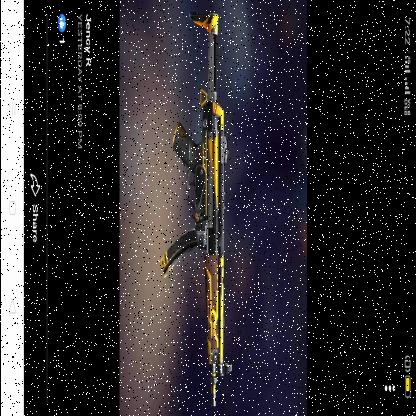rifle: (158, 9, 233, 409)
